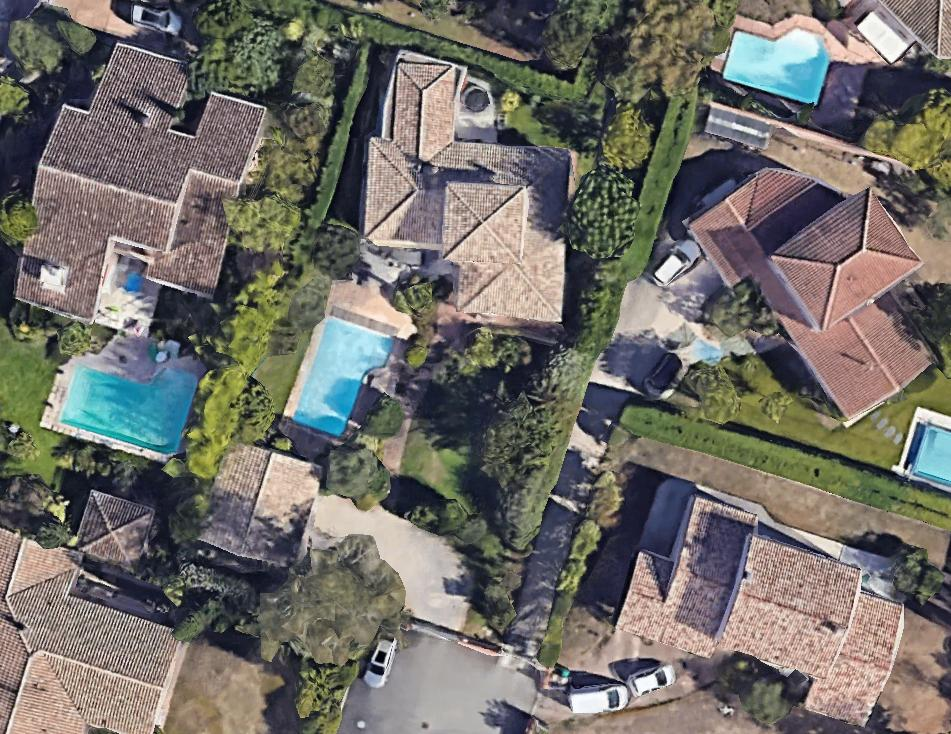maison: (0, 30, 275, 356), (602, 475, 926, 734), (683, 125, 951, 437), (352, 50, 581, 320), (0, 491, 186, 733), (195, 437, 325, 572), (878, 0, 950, 58)
